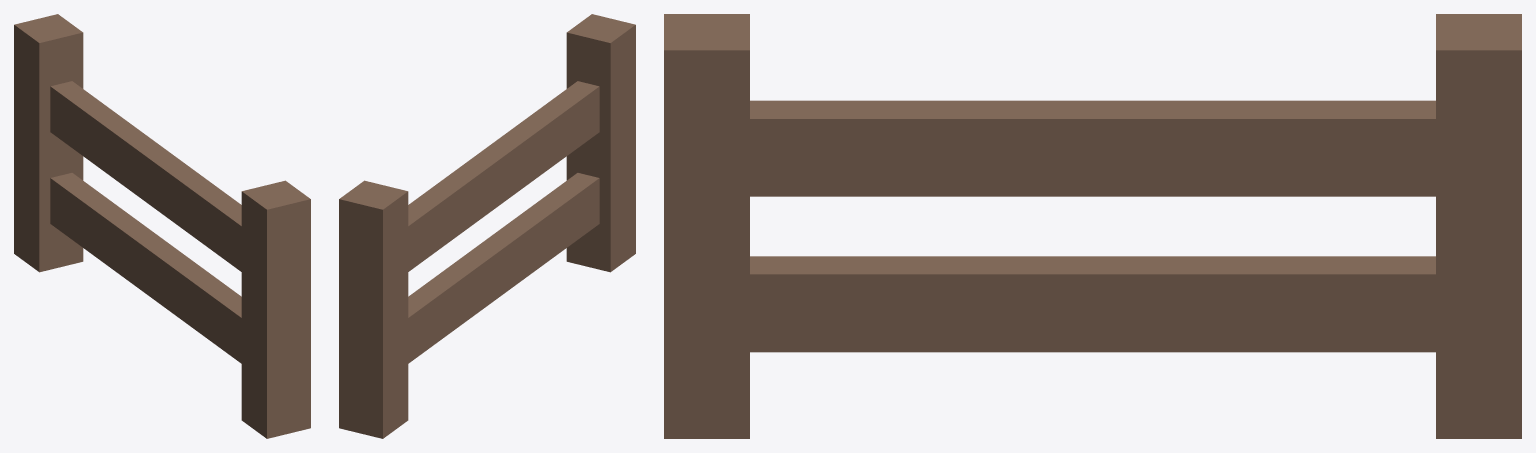
The model's file is prop-fence.fbx.
3 views of the same model, side by side, from view 1: azimuth 30°, elevation 25°; view 2: azimuth 150°, elevation 25°; view 3: azimuth 270°, elevation 25° (orthographic). The views are drawn at different scales.
Visible parts, largest first — view 1: prop-fence; view 2: prop-fence; view 3: prop-fence.
Part boxes in pixels (<box>): prop-fence: <box>14,14,310,438</box>; prop-fence: <box>339,14,635,438</box>; prop-fence: <box>664,14,1521,438</box>.
Bounding box in the file's own units: 10 × 50 × 100.
